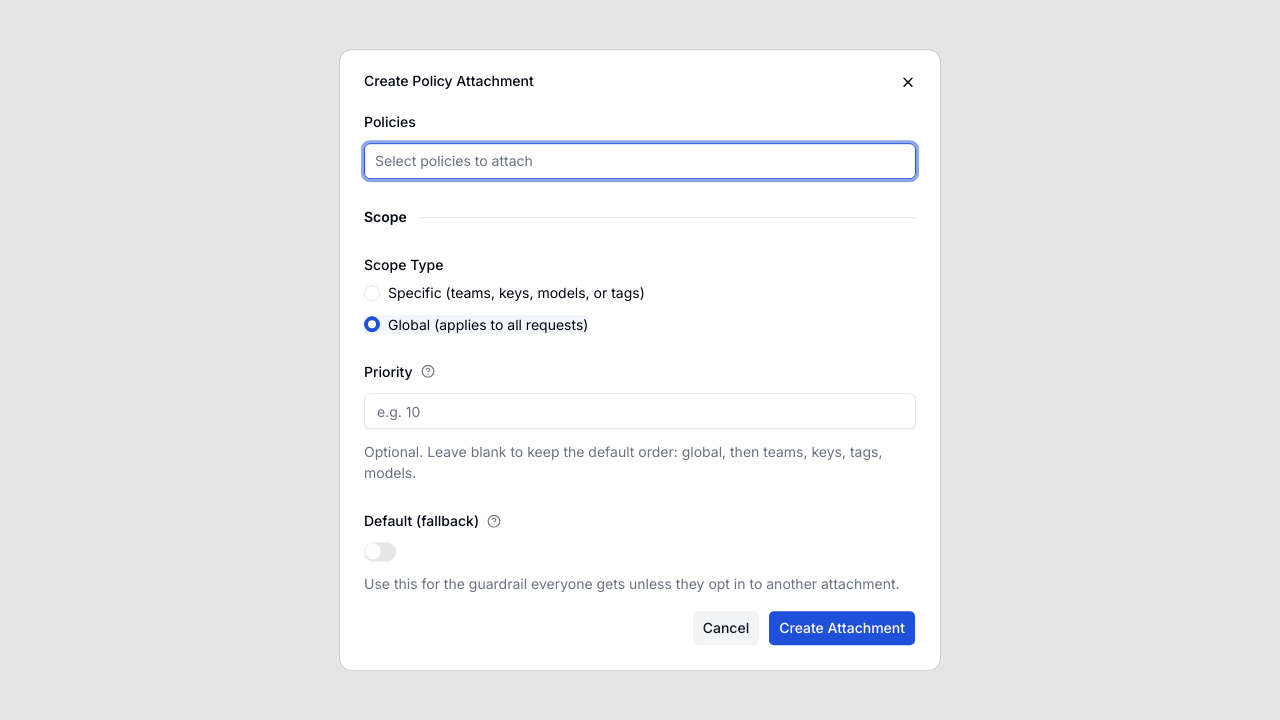
Test: AddAttachmentForm › should show the 'Estimate Impact' button only when scope is specific
Expected: the heading "Create Policy Attachment" is shown, [364, 72, 534, 89]
Expected: the button "estimate impact" is not shown
Click the radio button next to "Specific (teams, keys, models, or tags)" at (372, 293), box [364, 285, 380, 301]
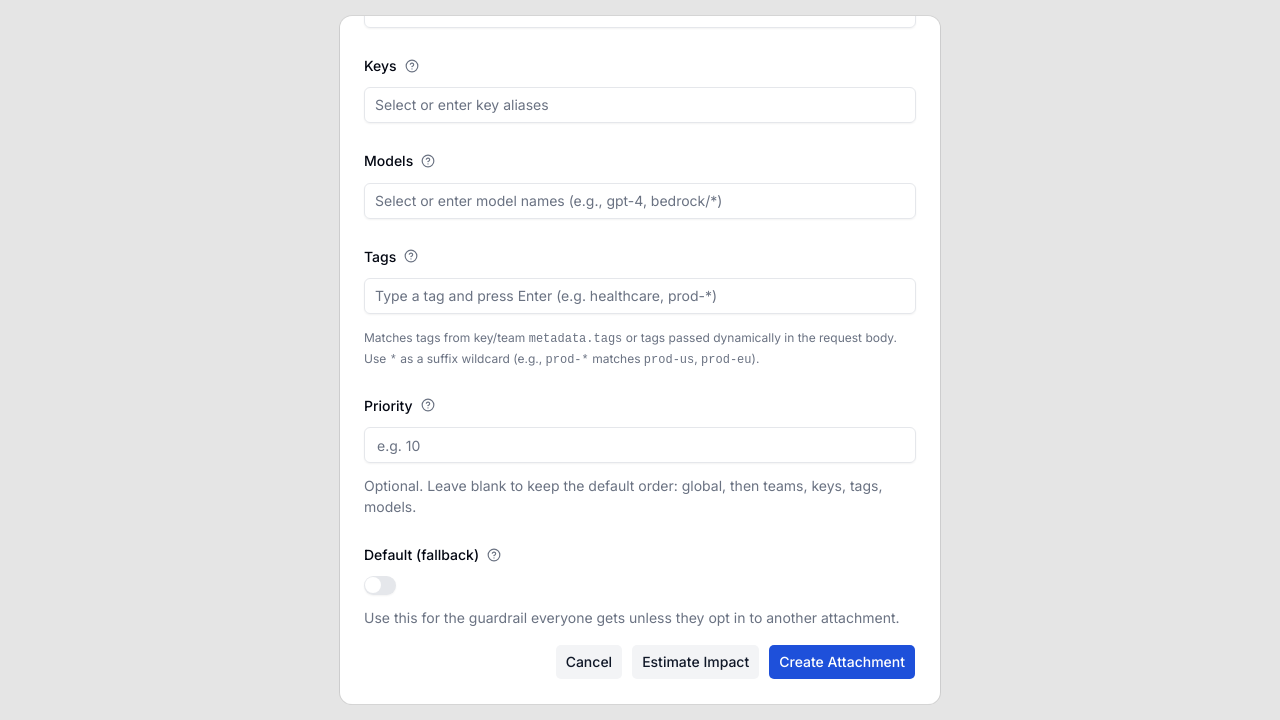
Result: the button "Estimate Impact" is shown at [631, 644, 760, 680]
